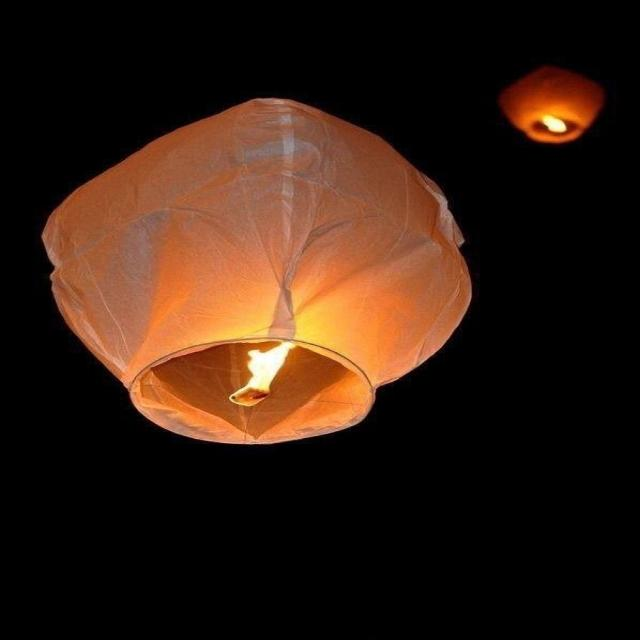fire: (229, 342, 296, 407)
